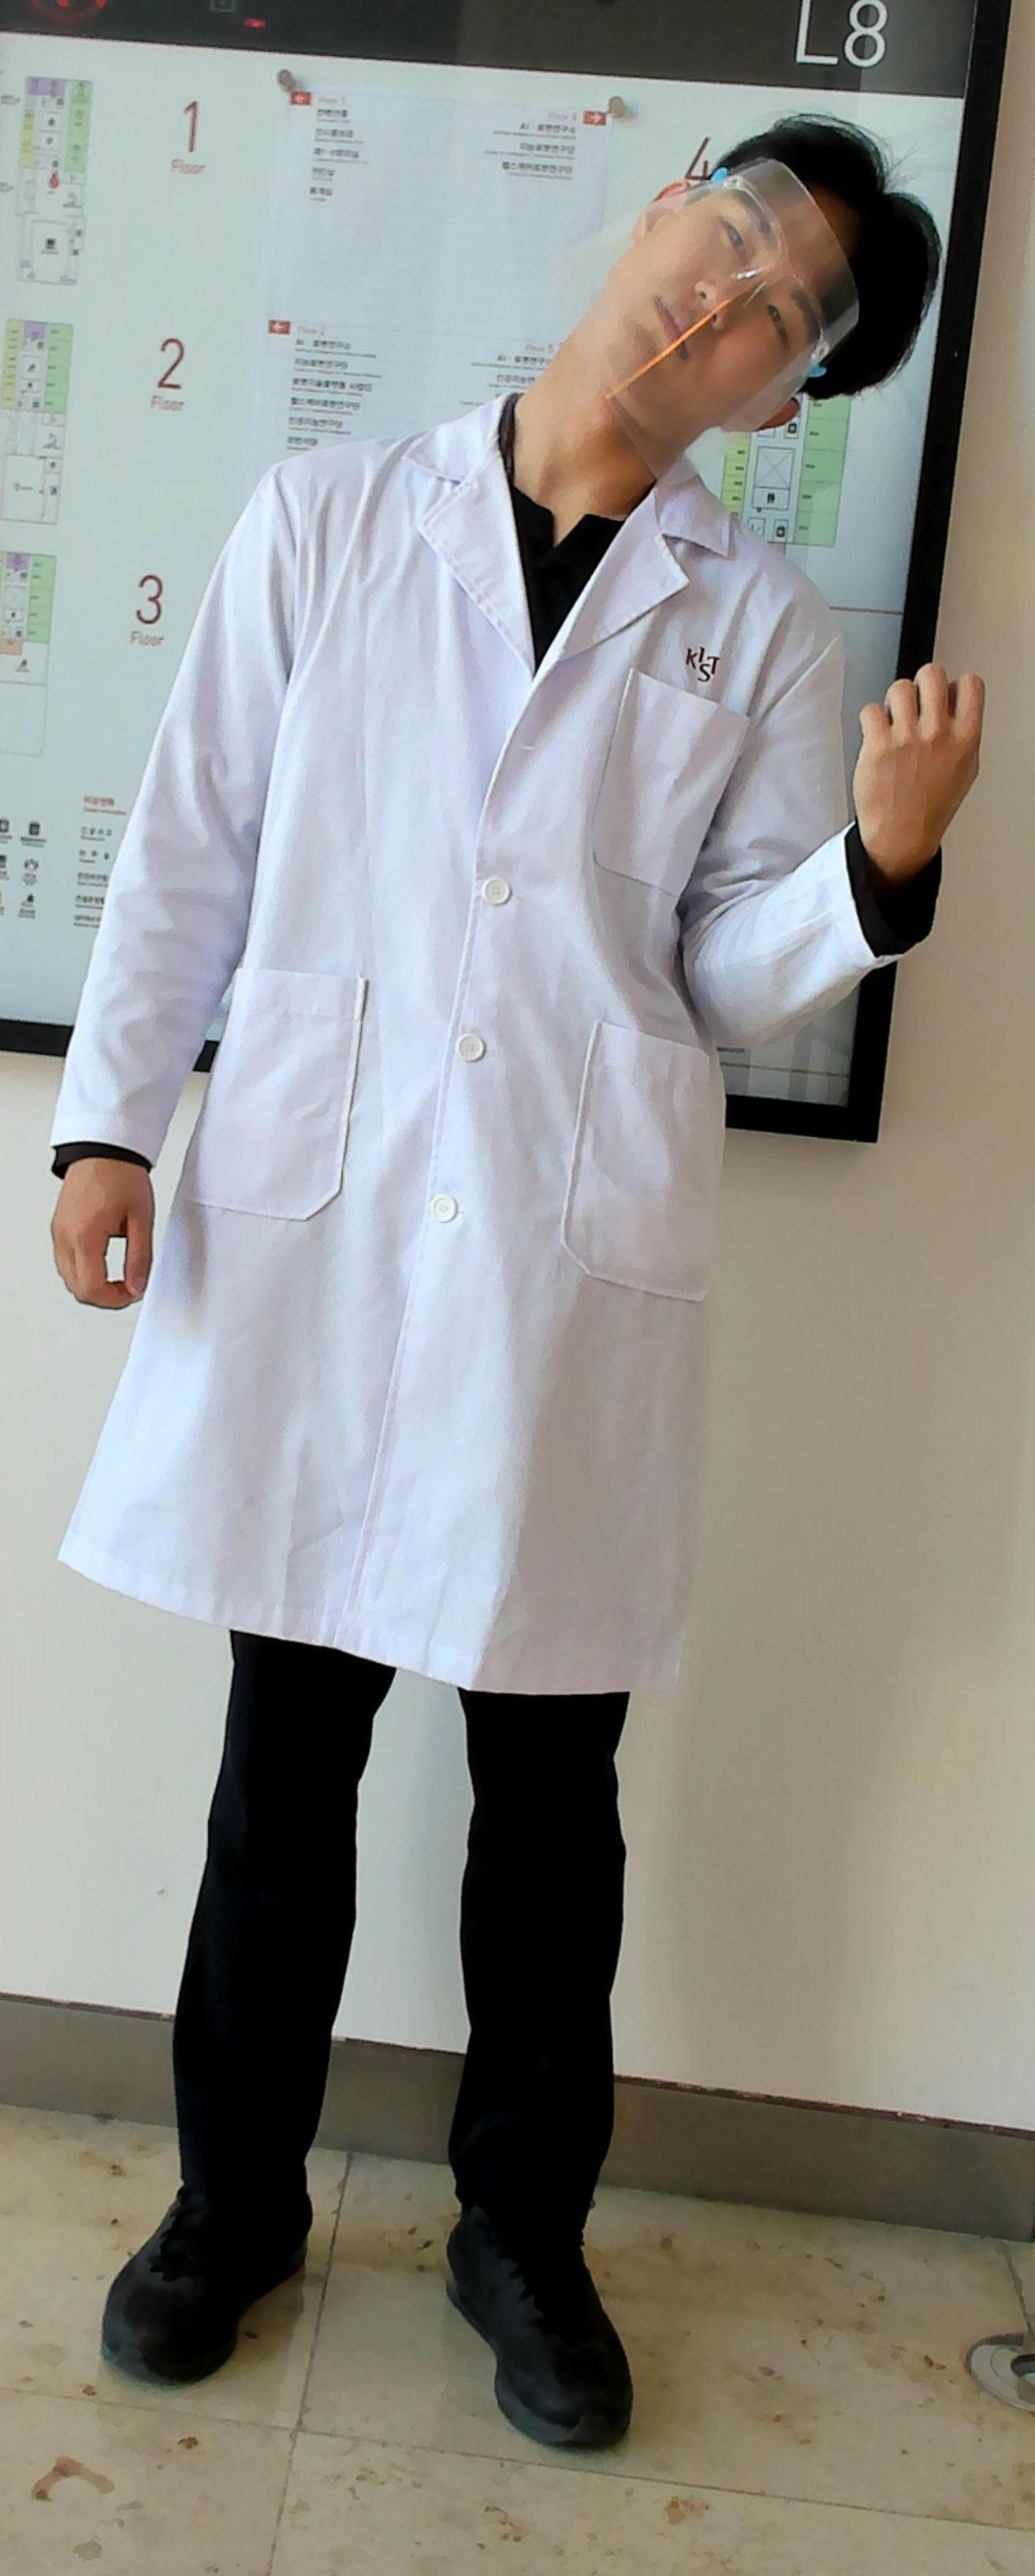lab_coat: (138, 522, 798, 1618)
